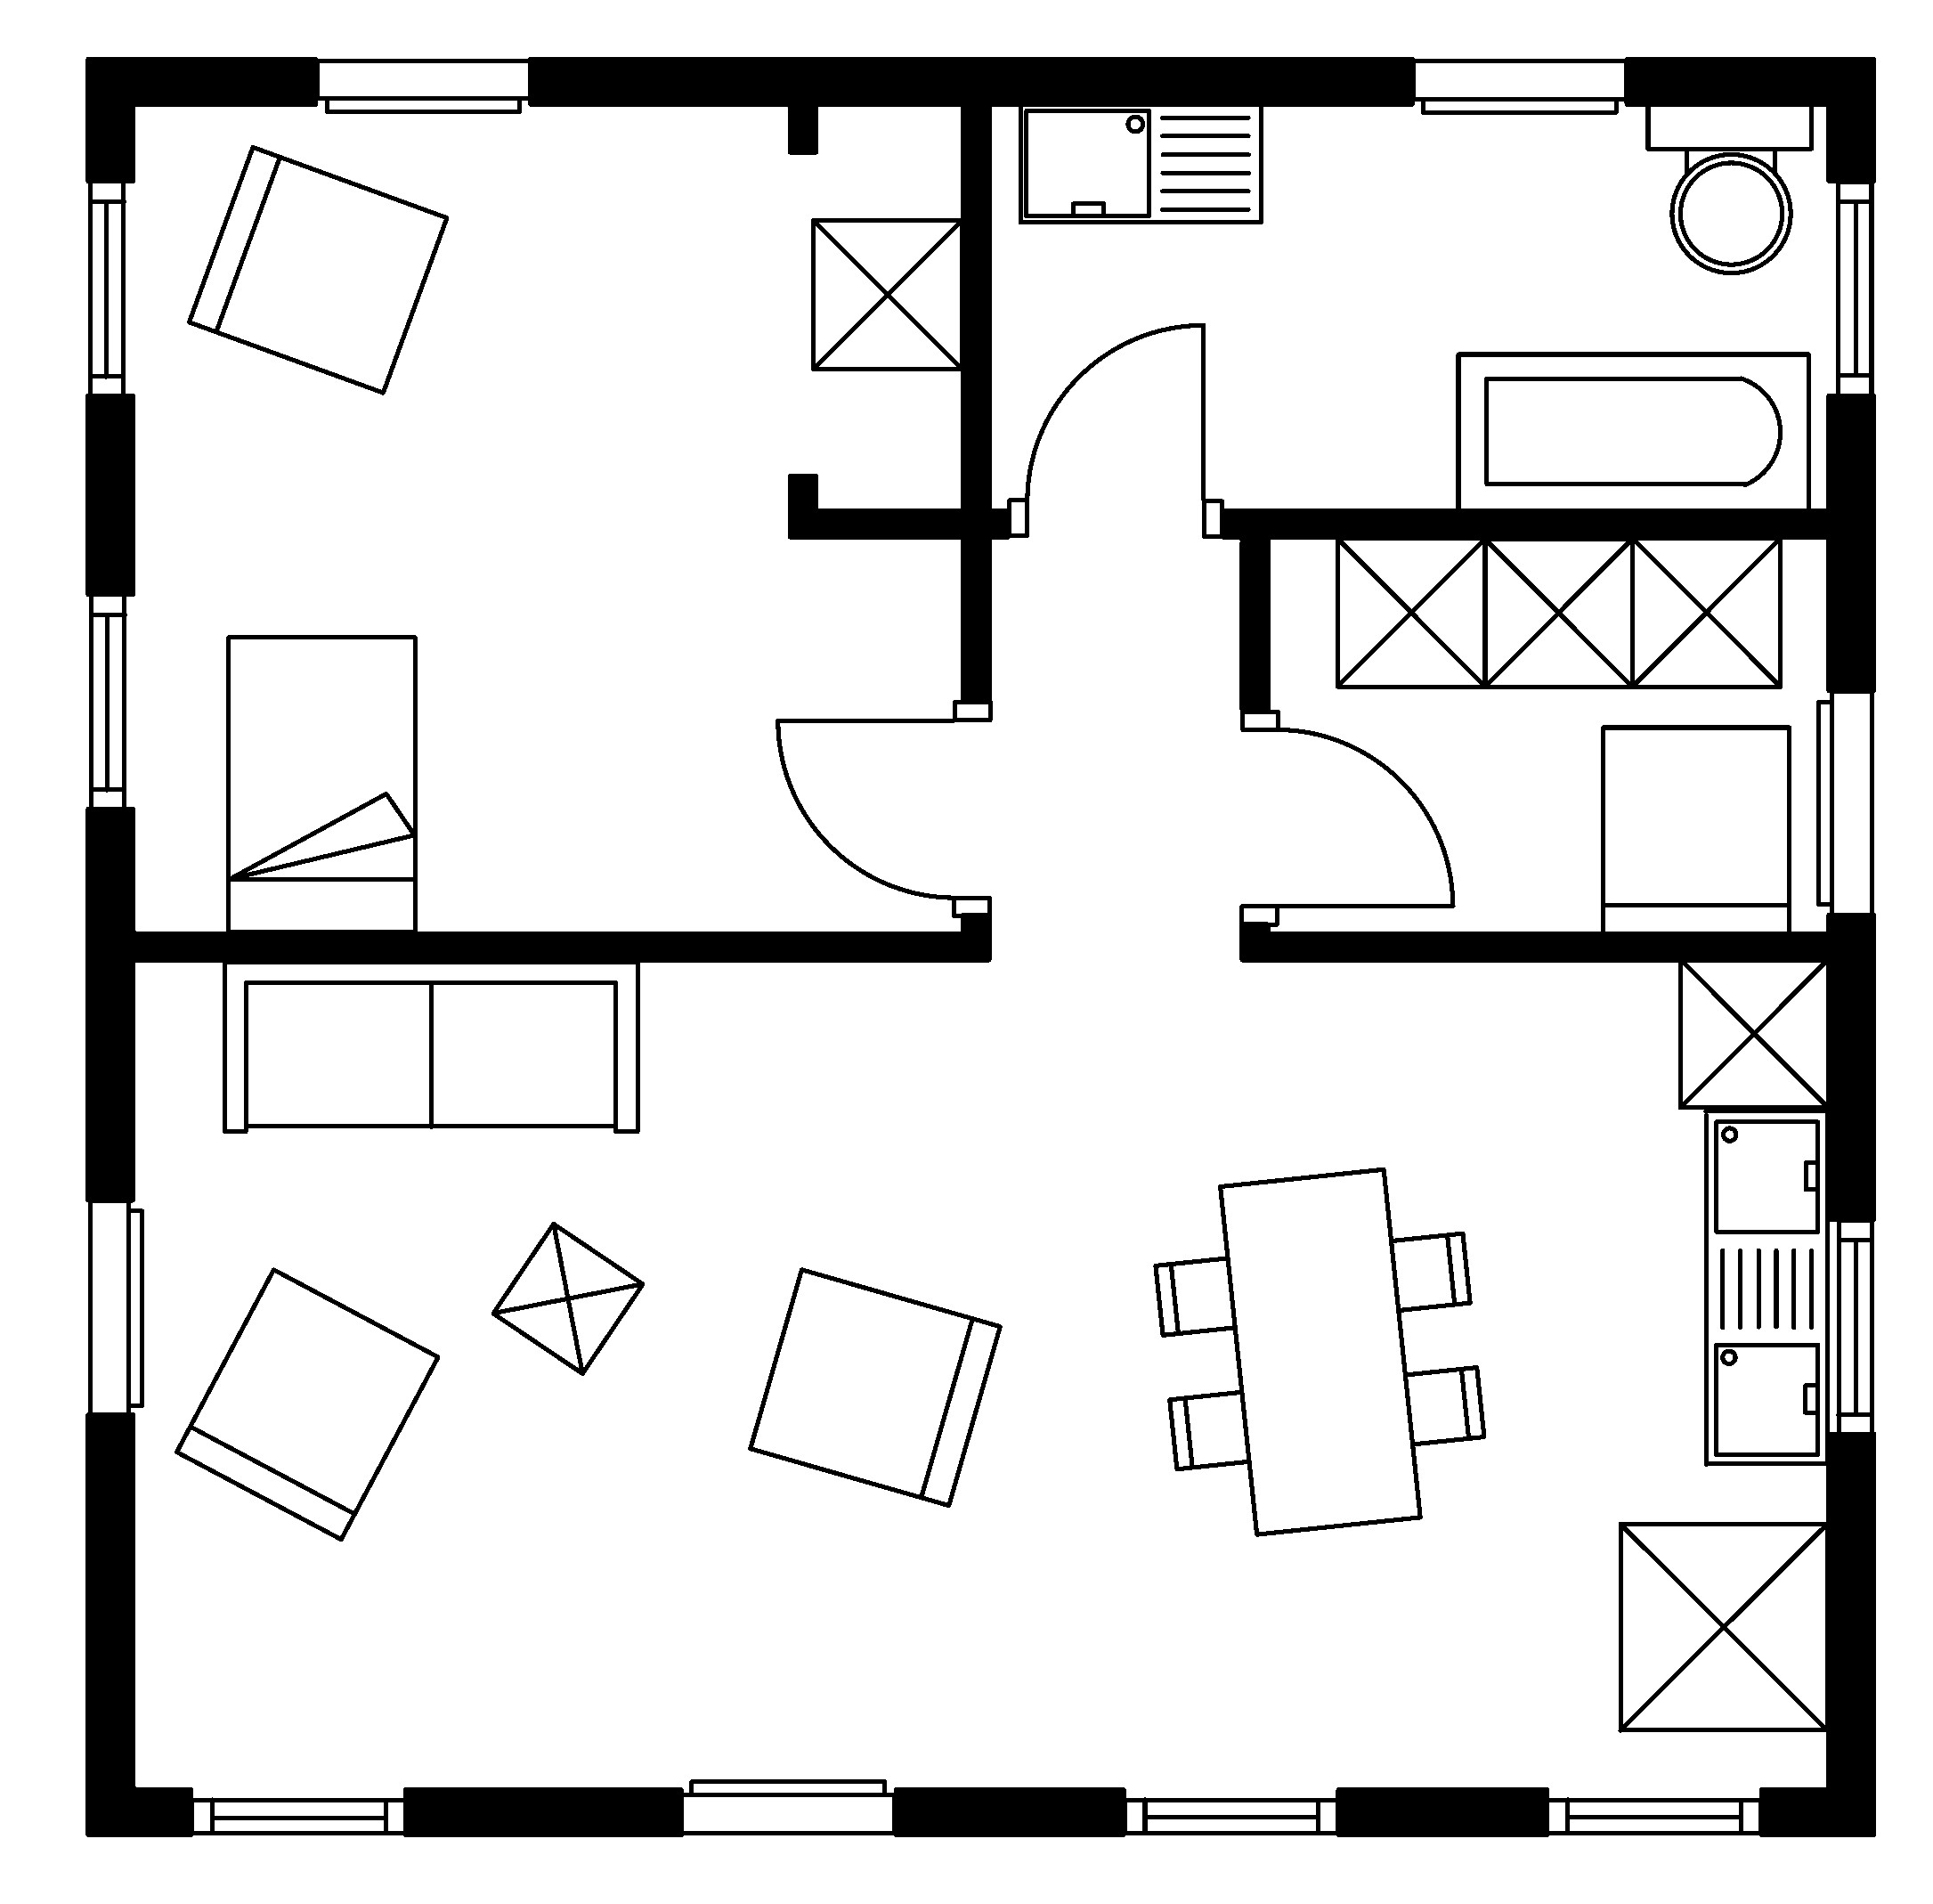bed: (223, 633, 418, 935)
coffee_table: (1616, 1520, 1830, 1733), (488, 1221, 645, 1377), (809, 216, 966, 371), (1480, 534, 1635, 689), (1628, 534, 1783, 689), (1333, 534, 1489, 689), (1675, 955, 1830, 1111)
dining_table: (1150, 1166, 1487, 1538)
large_sink: (1644, 101, 1814, 274)
large_sofa: (220, 959, 640, 1135)
sink: (1016, 101, 1264, 225)
small_sofa: (173, 1266, 441, 1543), (185, 143, 450, 396), (746, 1266, 1002, 1508), (1598, 724, 1792, 936)
tub: (1454, 350, 1811, 513)
twin_sink: (1701, 1107, 1830, 1468)
